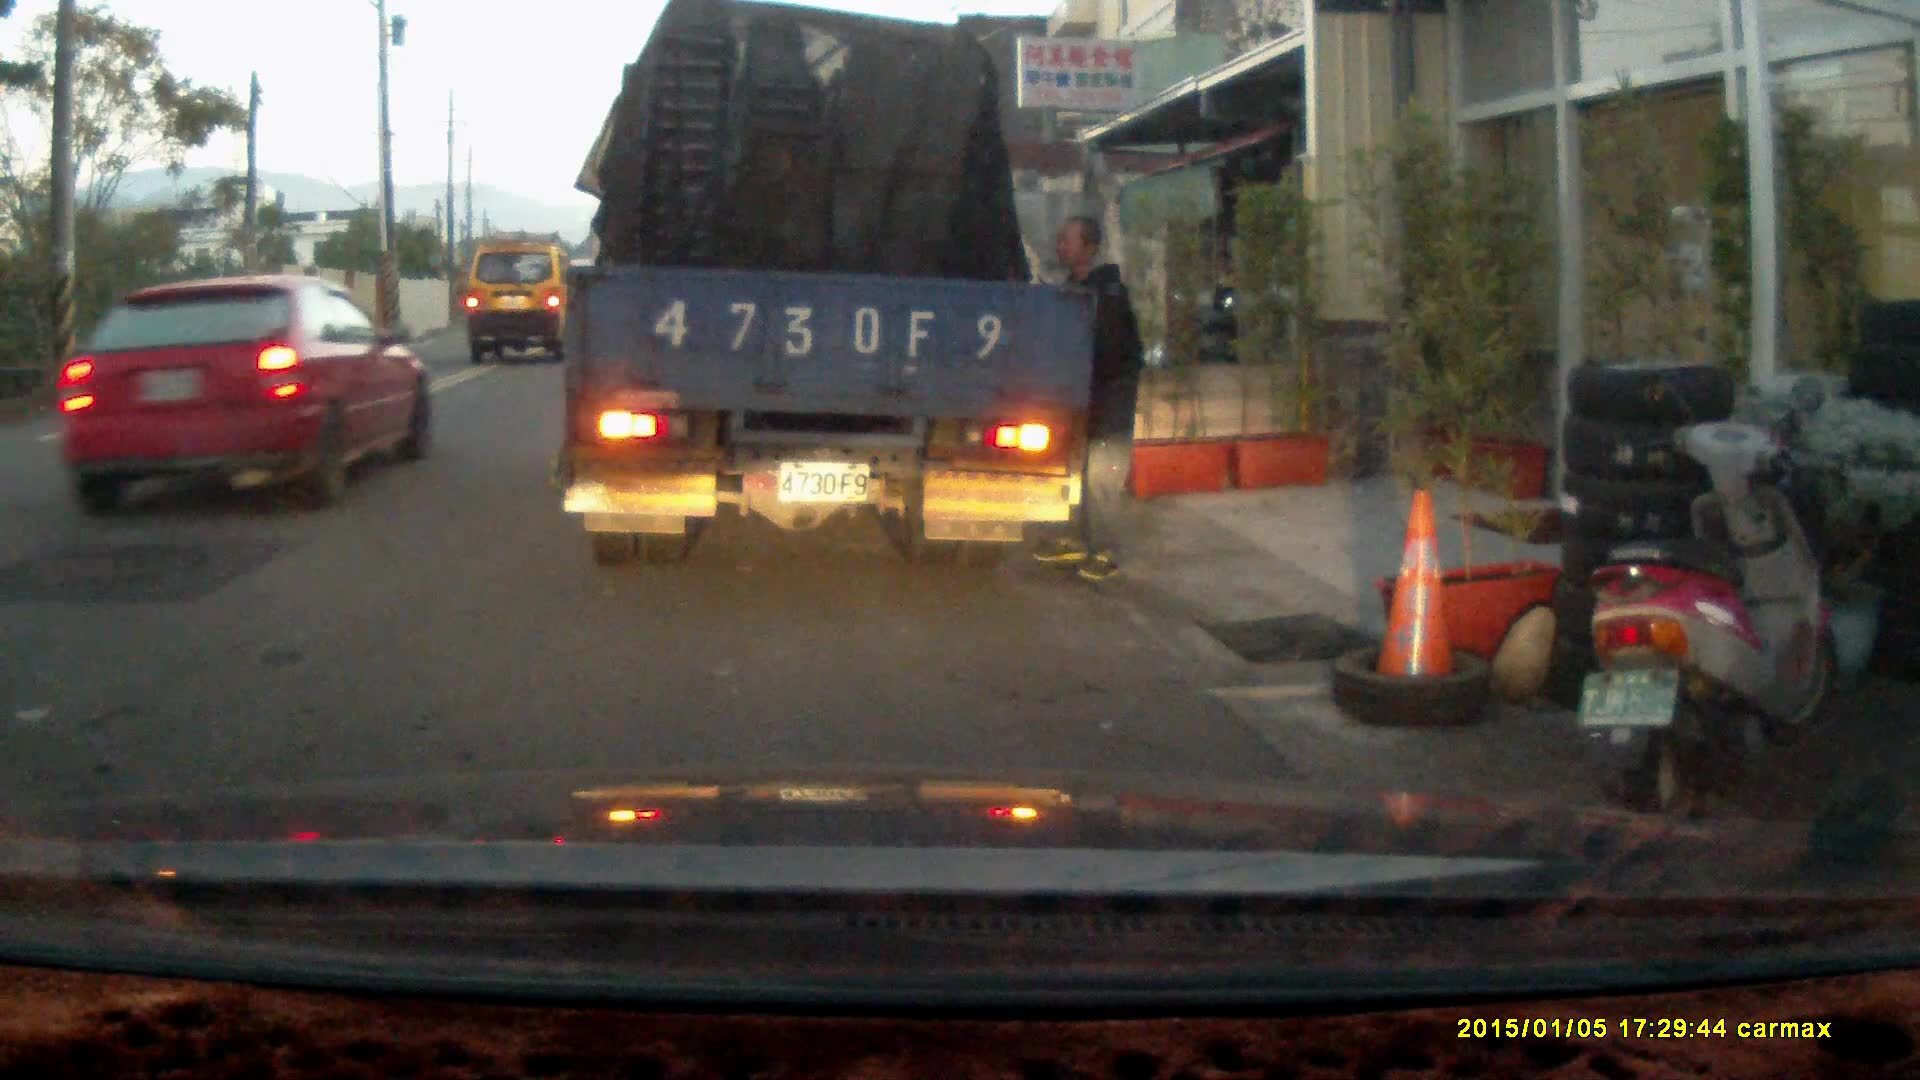pedestrian: (1031, 213, 1143, 581)
vehicle: (565, 23, 1097, 571), (59, 272, 438, 521), (463, 240, 579, 357)
